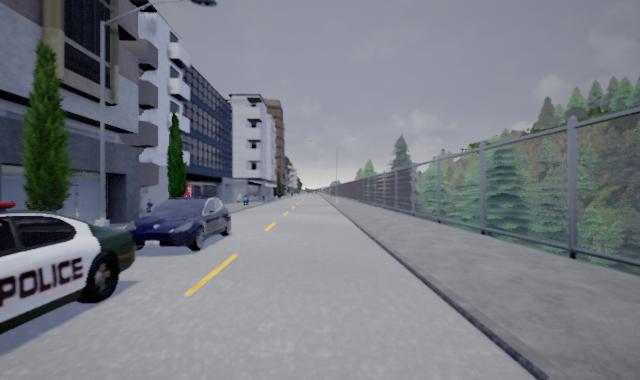pedestrian: (142, 196, 155, 218)
vehicle: (1, 209, 135, 333), (131, 197, 231, 251)
